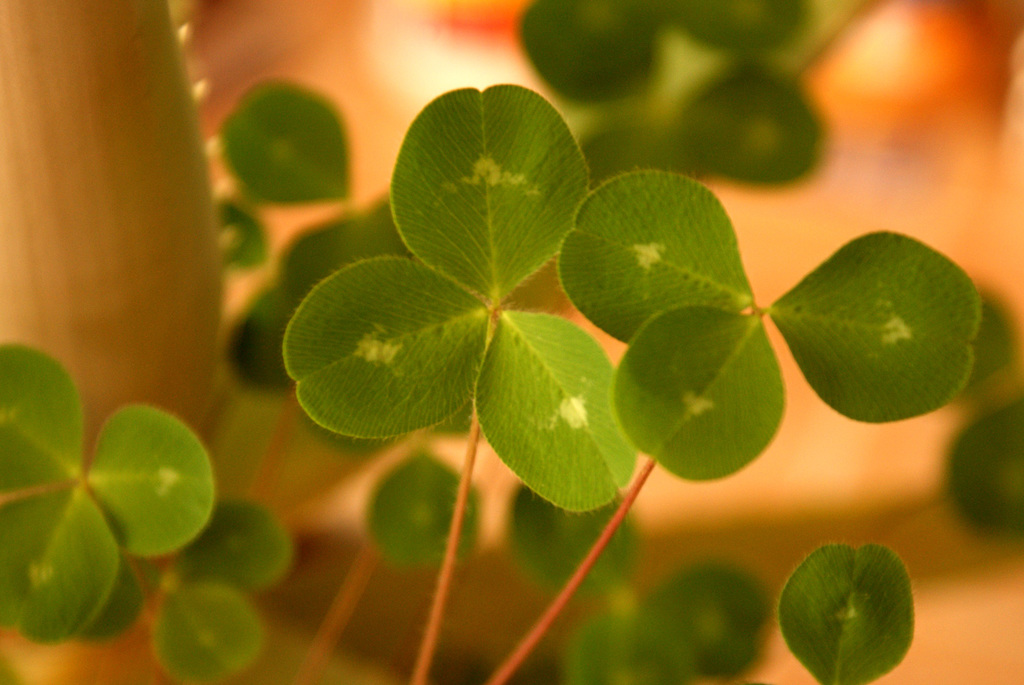person: (224, 82, 591, 389)
